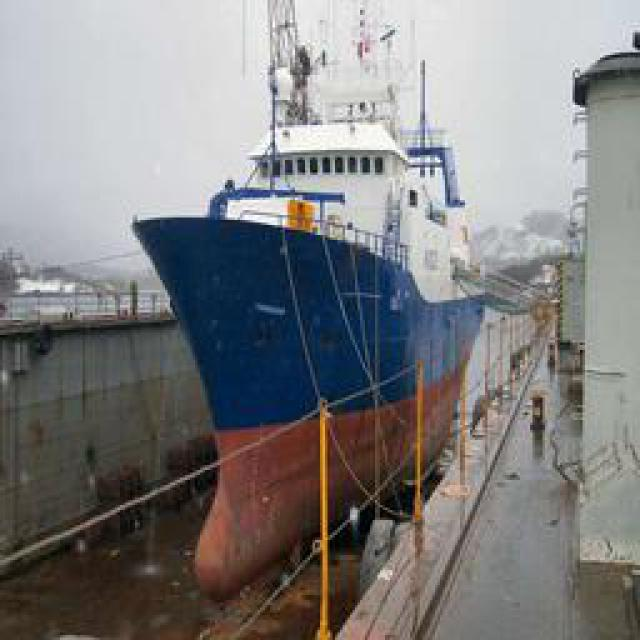Ship: (126, 16, 531, 601)
